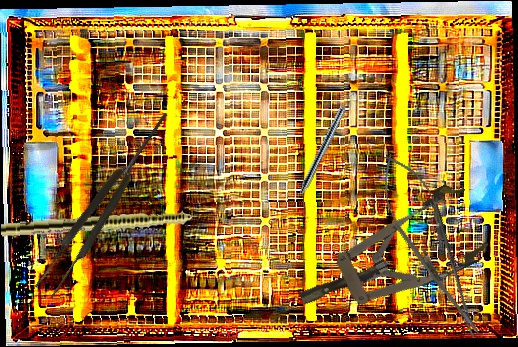Handpiece: (0, 207, 226, 240), (297, 89, 357, 197)
Needle Holder: (364, 145, 498, 347)
Speculum: (283, 177, 495, 337)
Tissue Forceps: (31, 106, 179, 301)
